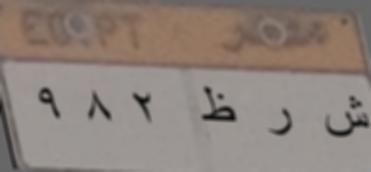2: (128, 86, 162, 130)
8: (82, 84, 117, 128)
9: (34, 81, 65, 129)
Thaa: (198, 84, 238, 128)
raa: (264, 106, 296, 140)
sheen: (320, 92, 370, 142)
